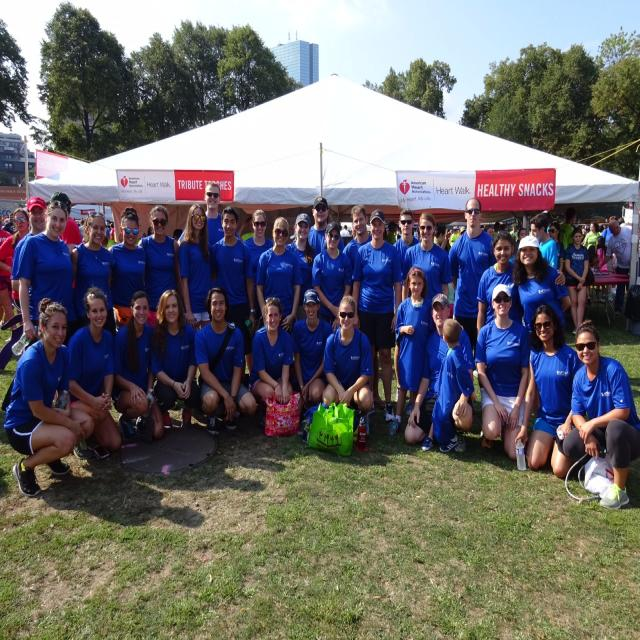body: (0, 194, 640, 270), (0, 296, 96, 499), (561, 317, 639, 512), (514, 303, 586, 479), (394, 266, 465, 435), (403, 292, 475, 454), (350, 210, 402, 426), (475, 230, 567, 348), (473, 280, 531, 463), (15, 198, 79, 357), (192, 285, 258, 437), (66, 286, 123, 460), (136, 203, 180, 393), (209, 204, 257, 377), (448, 197, 498, 360), (112, 290, 165, 443), (419, 317, 478, 454), (320, 293, 374, 440), (149, 287, 199, 431), (178, 203, 215, 396), (69, 210, 117, 338), (248, 295, 294, 427), (511, 234, 571, 335), (255, 215, 303, 338), (290, 289, 334, 414), (106, 205, 148, 334), (401, 210, 454, 307), (593, 218, 639, 320), (311, 221, 353, 332), (176, 179, 241, 249), (10, 195, 48, 293), (242, 207, 274, 320), (284, 212, 316, 324), (0, 208, 30, 326), (564, 226, 592, 336), (392, 208, 420, 316), (307, 195, 345, 259), (44, 190, 82, 254), (341, 203, 373, 271), (529, 212, 559, 272), (587, 235, 609, 304), (548, 220, 566, 272), (0, 289, 22, 327), (600, 215, 618, 247), (0, 218, 13, 247), (586, 244, 598, 267), (19, 180, 25, 192), (17, 180, 21, 193)
